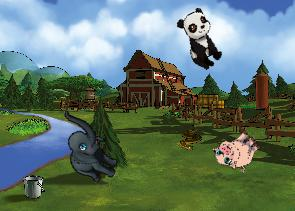elephant: (45, 109, 130, 187)
panda: (173, 6, 228, 73)
pig: (209, 122, 265, 178)
